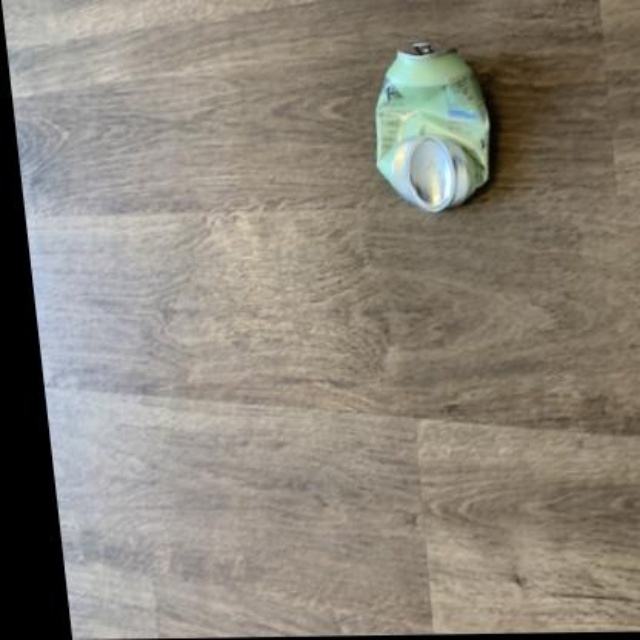trash: (375, 43, 488, 211)
